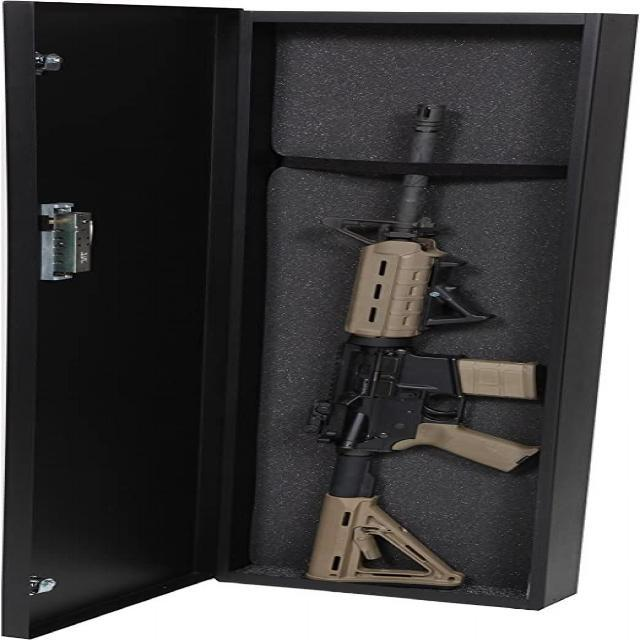weapon: (299, 103, 545, 592)
